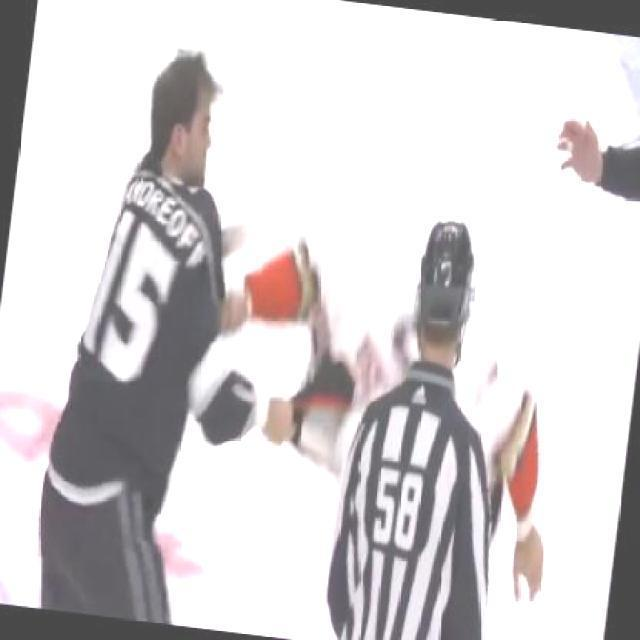fight: (22, 16, 416, 638), (194, 206, 584, 609)
